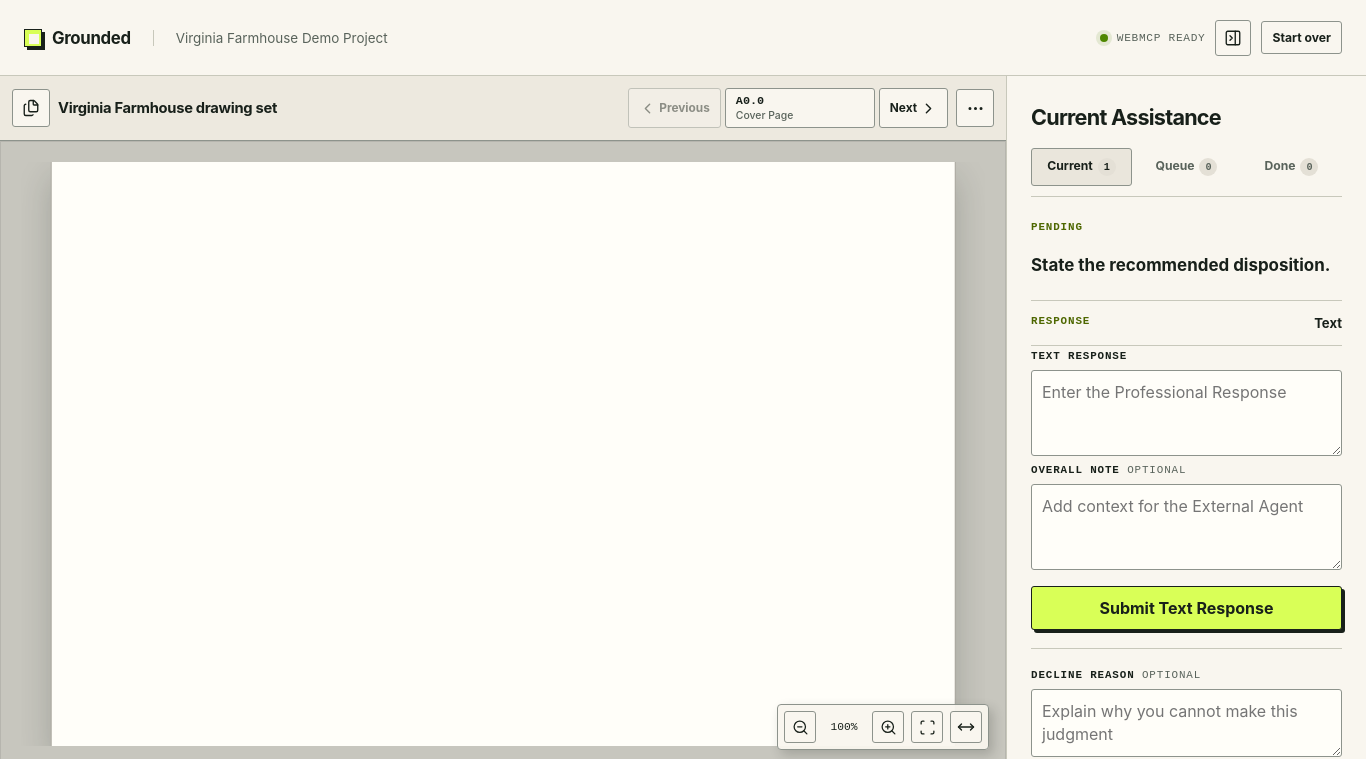
Test: a validation failure explains how to submit the requested Professional Response
This screenshot has width=1366, height=759.
Expected: the text "WebMCP ready" is shown, [1117,32,1205,44]
Expected: the text "State the recommended disposition." is shown, [1031,253,1342,278]
Click the button "Submit Text Response".
click(1186, 608)  # box [1031,586,1342,630]
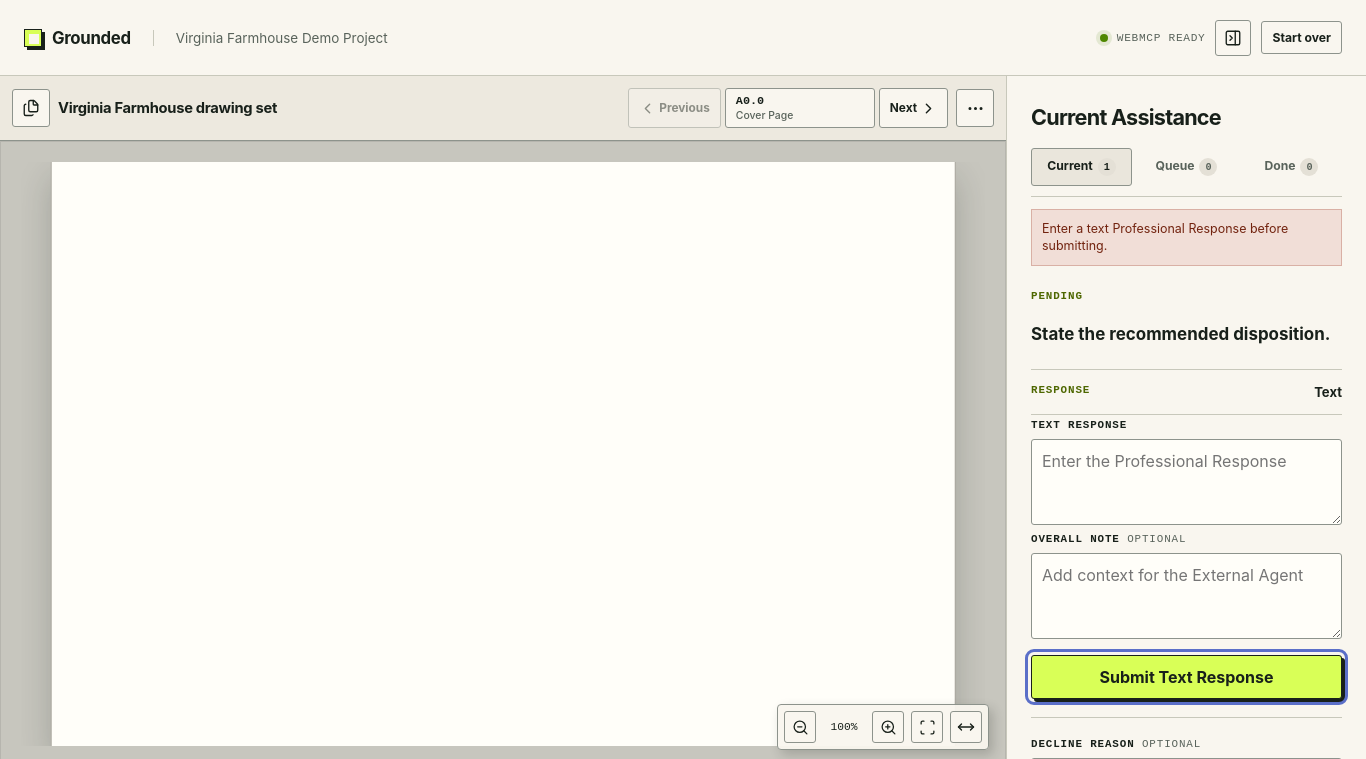
Now the message reads "Enter a text Professional Response before submitting.", box [1042,221,1288,254]
